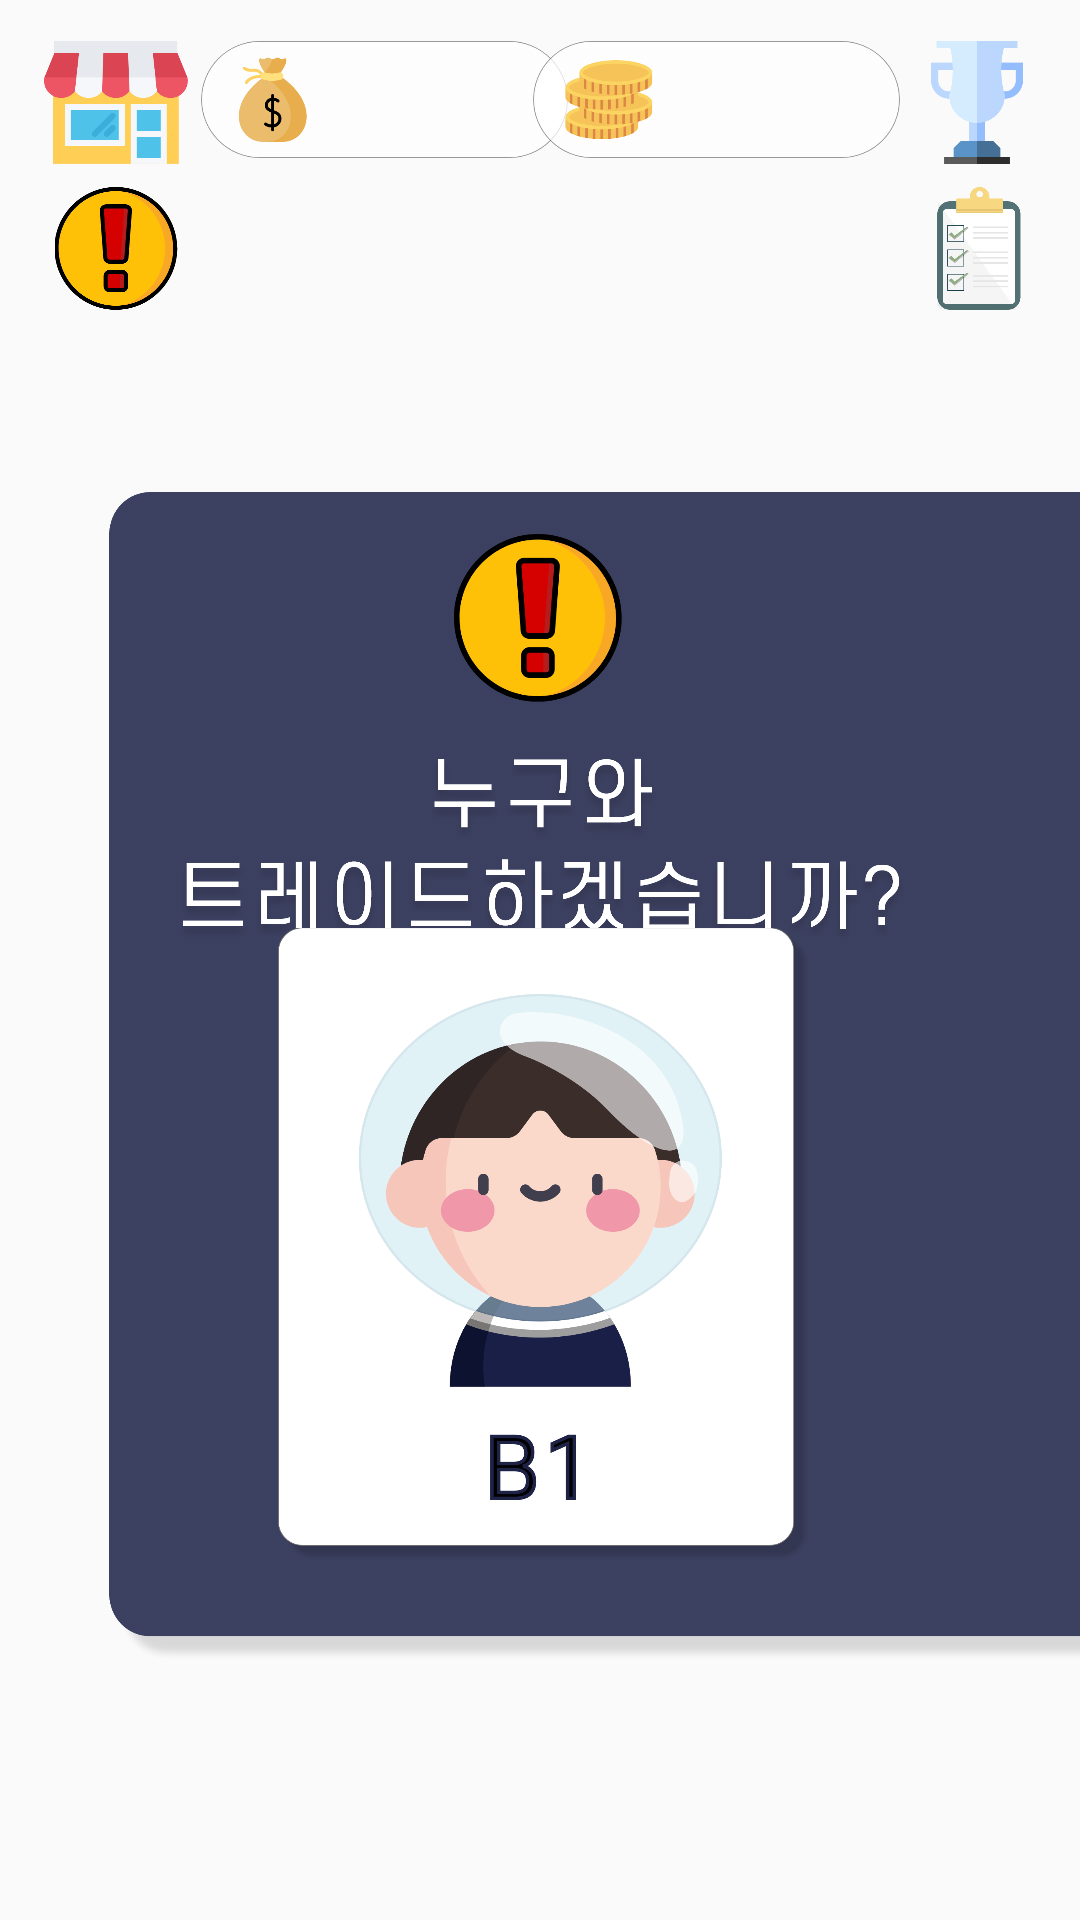

Point at icon controls on the screen. Image size 1080x1920, points as (x,y).
quest: (116,248), (538,618)
todo list: (979,248)
trophy: (977,102)
